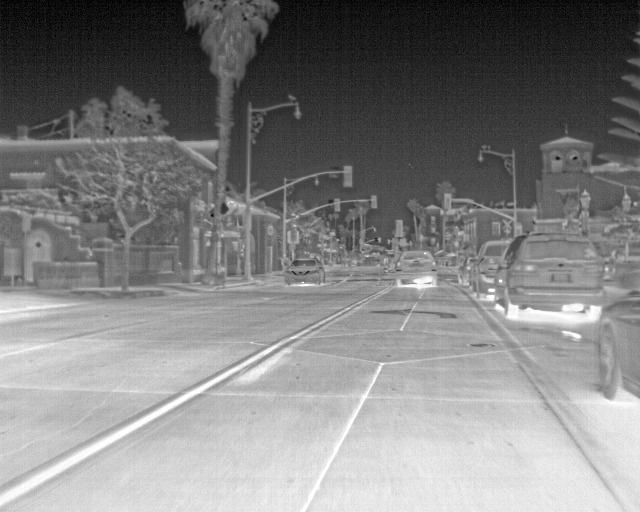bicycle: (495, 230, 607, 318), (595, 286, 639, 406), (467, 239, 512, 299), (395, 245, 438, 287), (281, 254, 329, 287), (457, 255, 479, 285)
